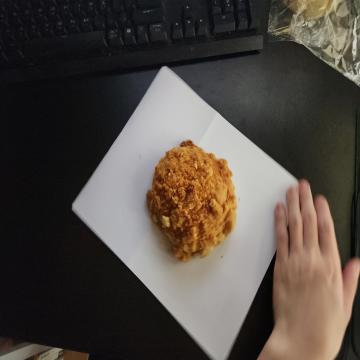soboru_bread: (145, 138, 238, 261)
